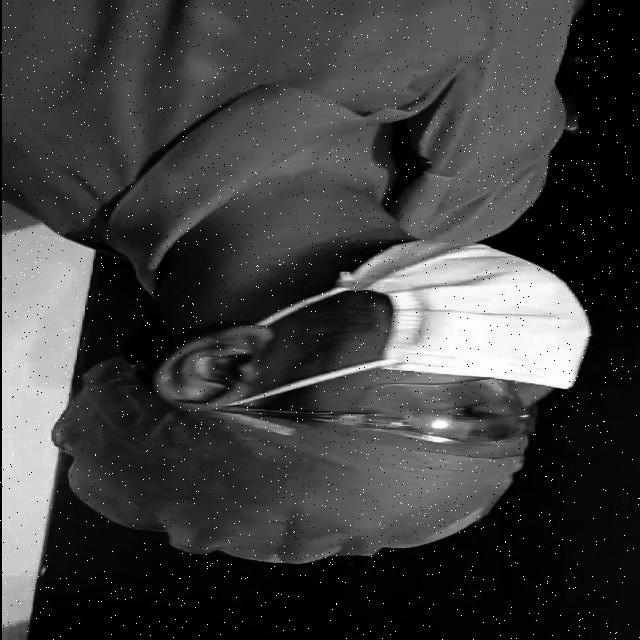gloves: (48, 364, 532, 580)
mask: (364, 216, 600, 382)
